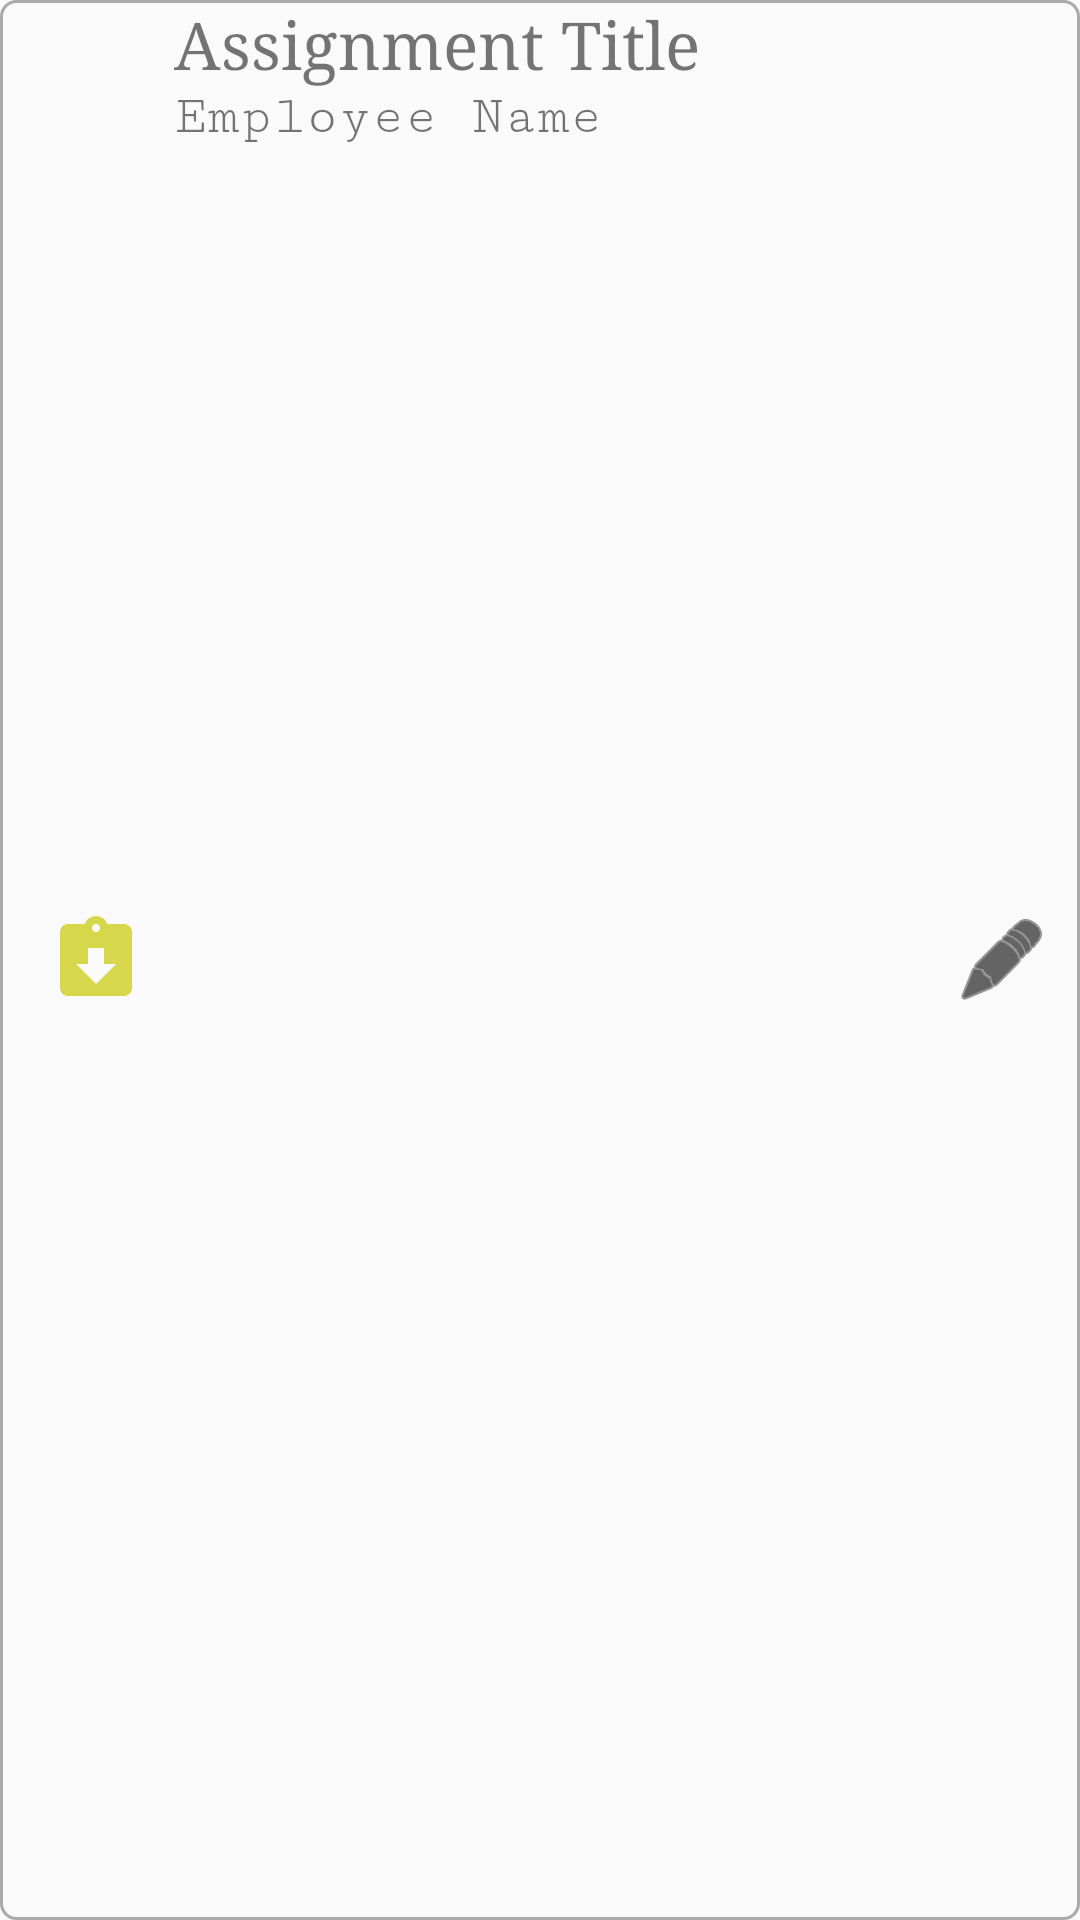

Screen size 1080px×1920px. Icon name, then its box in pixels as [x1=x1, y1=y1, x2=x2, y2=y2]:
assignment returned: [x1=60, y1=916, x2=132, y2=996]
edit: [x1=961, y1=919, x2=1042, y2=1000]
